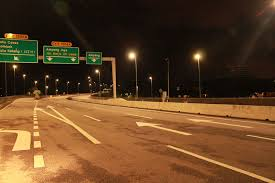strada: (8, 97, 265, 181)
